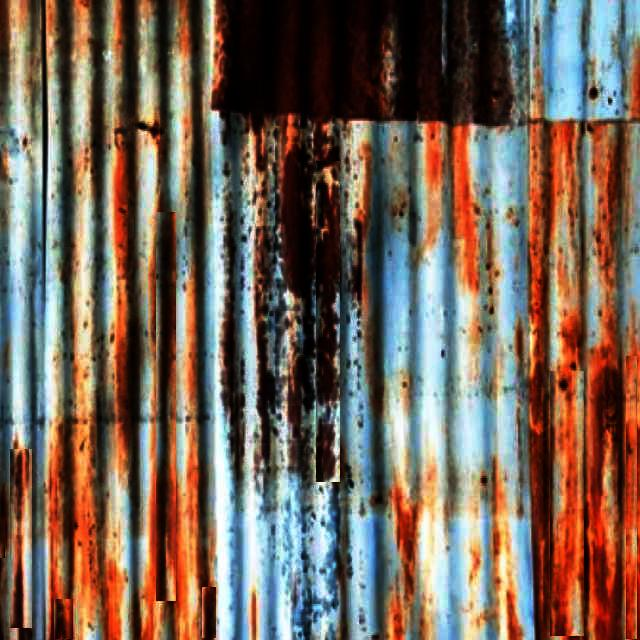Corrosion: (215, 0, 526, 123), (312, 122, 341, 483), (113, 140, 137, 448), (253, 189, 277, 459), (531, 362, 553, 640), (587, 348, 621, 511), (587, 516, 624, 640), (281, 144, 309, 295), (225, 224, 238, 442), (294, 294, 315, 419)
